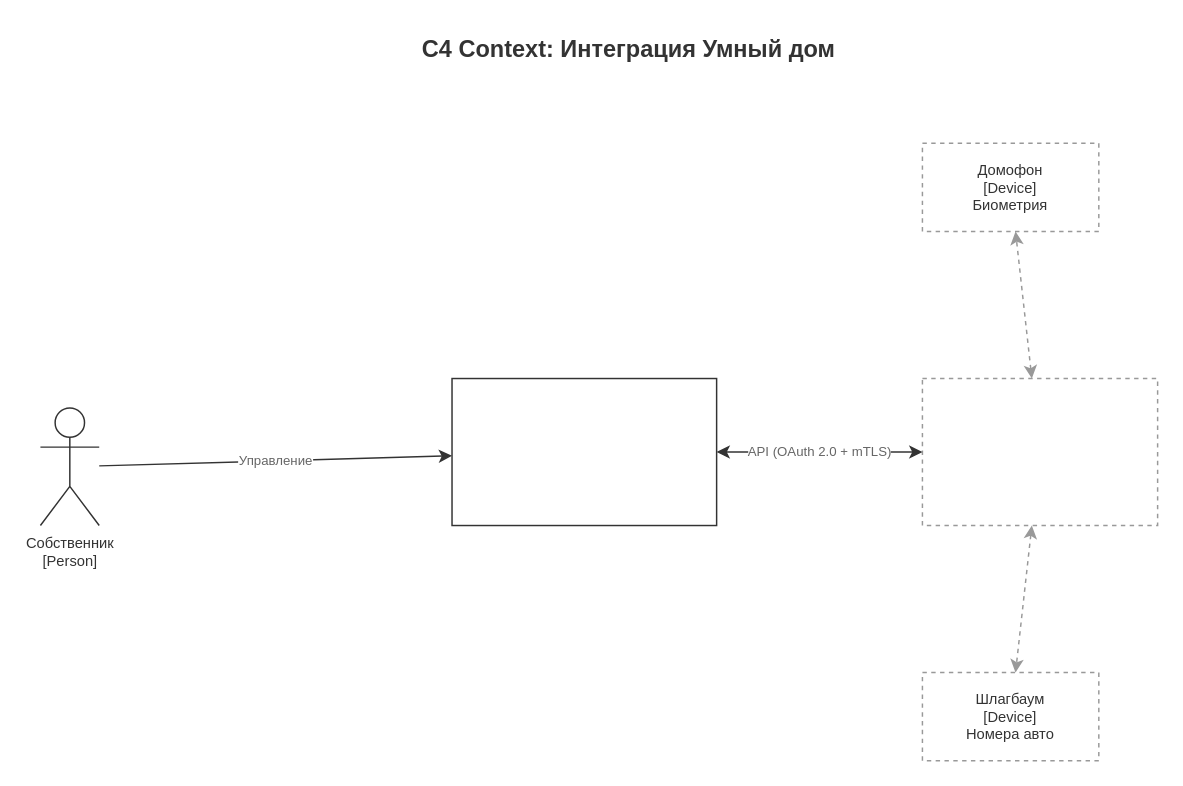
The diagram is 1183 pixels wide and 786 high, and some of its shapes have lost their labels. Each missing label, with the box of its shape:
PropDevelopment [Software System] Мобильное приложение для собственников: (451, 377, 717, 526)
Платформа Умный дом [External System] Партнёр: домофон, шлагбаум: (921, 377, 1158, 526)
